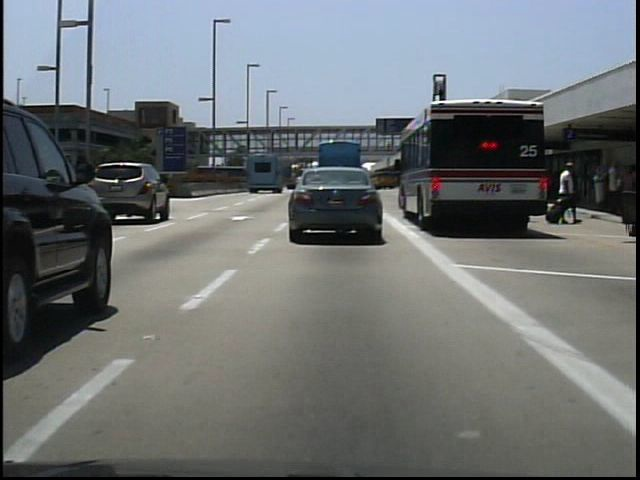person: (554, 157, 581, 228), (383, 137, 396, 157)
